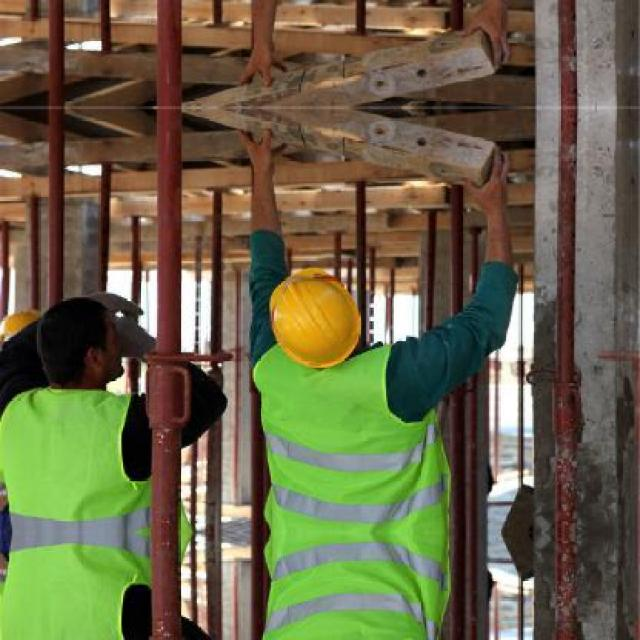Reflective-Jacket: (245, 343, 477, 534), (0, 379, 160, 546)
Safety-Helmet: (263, 262, 366, 372)
